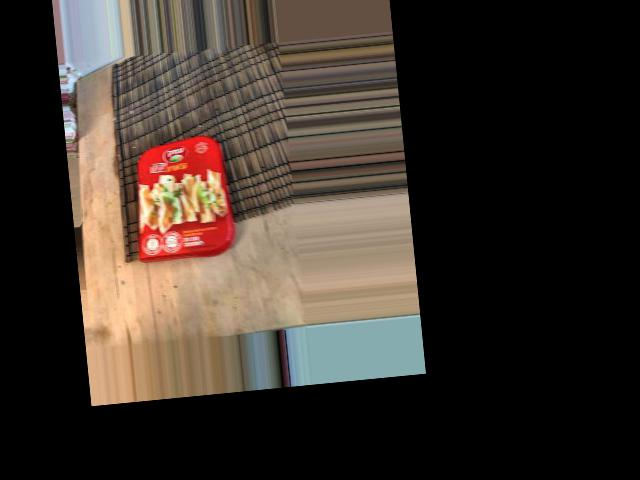cheese: (156, 109, 295, 210)
